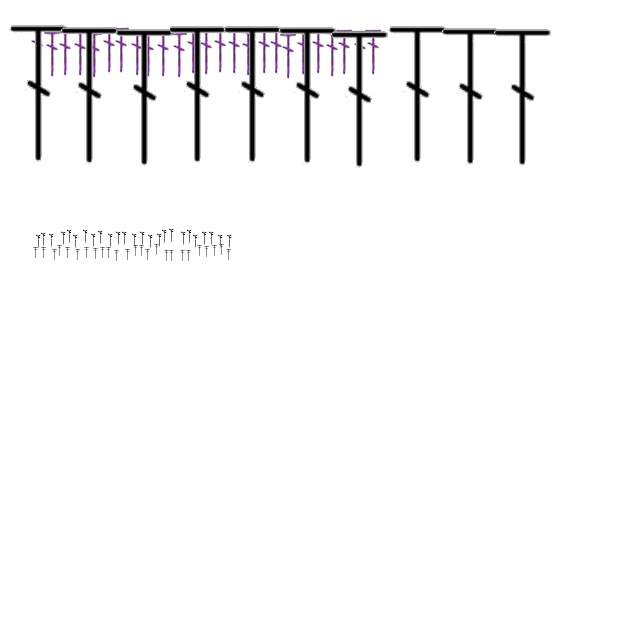double treble: (8, 20, 70, 166), (59, 22, 121, 168), (114, 24, 176, 170), (167, 21, 229, 167), (222, 21, 284, 167), (277, 22, 339, 168), (329, 26, 391, 172), (387, 21, 449, 167), (440, 23, 502, 169), (492, 24, 554, 170), (29, 25, 45, 73), (44, 29, 60, 77), (57, 28, 73, 76), (72, 28, 88, 76), (86, 30, 102, 78), (101, 25, 117, 73), (113, 25, 129, 73), (129, 28, 145, 76), (140, 29, 156, 77), (155, 29, 171, 77), (171, 30, 187, 78), (185, 26, 201, 74), (198, 27, 214, 75), (212, 25, 228, 73), (226, 26, 242, 74), (240, 28, 256, 76), (256, 26, 272, 74), (268, 26, 284, 74), (280, 31, 296, 79), (295, 27, 311, 75), (310, 26, 326, 74), (324, 29, 340, 77), (336, 27, 352, 75), (352, 28, 368, 76), (365, 27, 381, 75), (36, 234, 42, 250), (98, 230, 104, 246), (148, 234, 154, 250), (218, 234, 224, 250), (108, 234, 114, 248), (116, 232, 122, 246), (122, 232, 128, 246), (132, 234, 138, 248), (140, 232, 146, 246), (162, 230, 168, 244), (202, 232, 208, 246), (114, 250, 120, 262), (154, 244, 160, 256), (164, 250, 170, 262), (180, 250, 186, 262), (186, 250, 192, 262), (204, 246, 210, 258), (42, 232, 46, 248), (74, 234, 78, 250), (170, 228, 174, 244), (194, 234, 198, 250), (228, 234, 232, 250), (52, 250, 58, 260), (84, 248, 90, 258), (100, 248, 106, 258), (106, 248, 112, 258), (212, 246, 218, 256), (226, 250, 232, 260), (50, 234, 54, 248), (62, 232, 66, 246), (68, 230, 72, 244), (84, 230, 88, 244), (92, 234, 96, 248), (158, 234, 162, 248), (182, 232, 186, 246), (188, 230, 192, 244), (210, 232, 214, 246), (94, 248, 98, 260), (170, 250, 174, 262), (220, 244, 224, 256), (34, 248, 38, 258), (42, 248, 46, 258), (58, 246, 62, 256), (66, 248, 70, 258), (76, 250, 80, 260), (126, 250, 130, 260), (134, 246, 138, 256), (140, 246, 144, 256), (146, 250, 150, 260), (198, 246, 202, 256)
